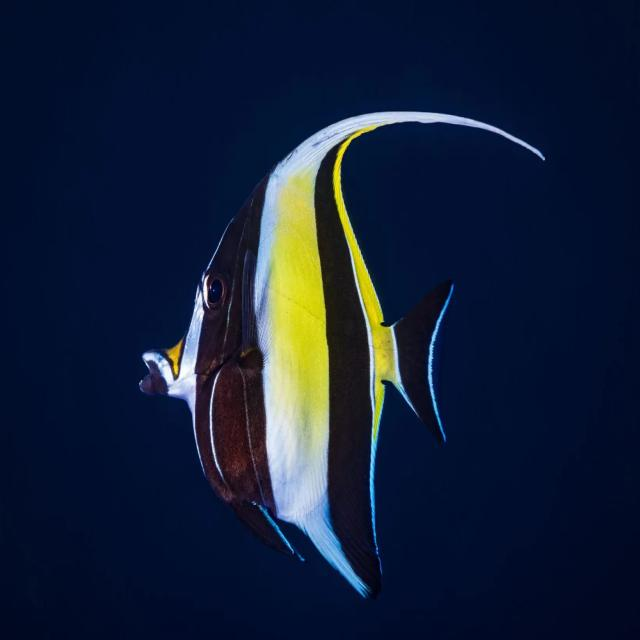MorishIdol: (137, 107, 546, 602)
